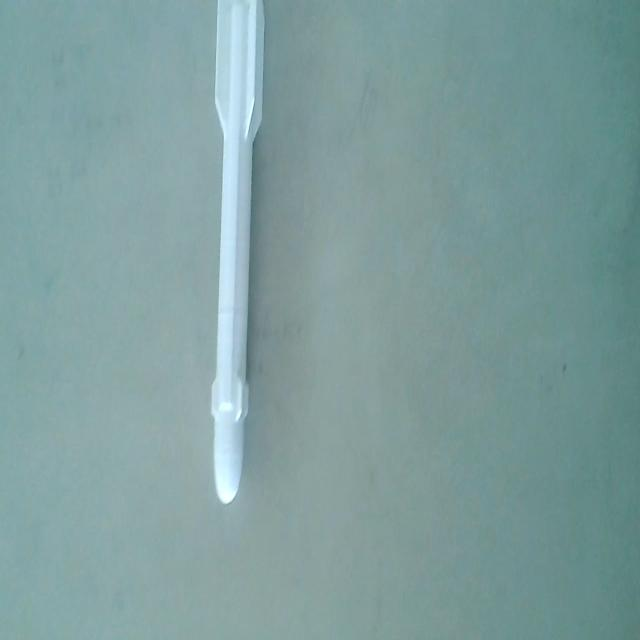Rocket: (209, 2, 268, 512)
